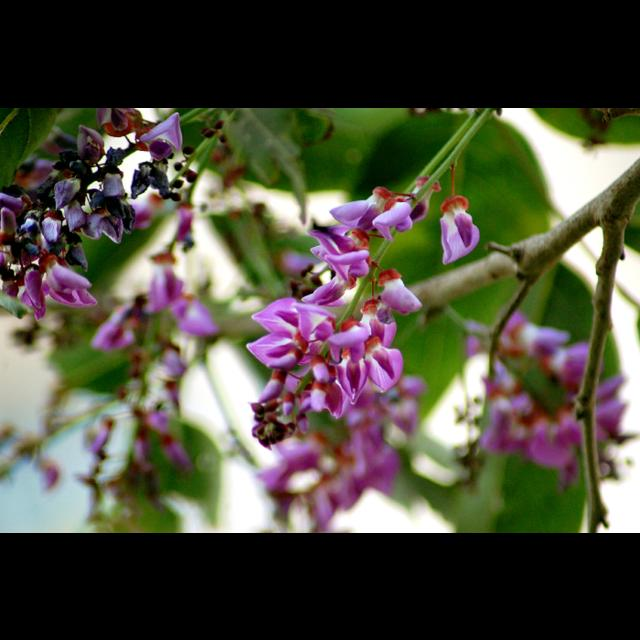Flower: (1, 108, 634, 532), (442, 195, 486, 269)
